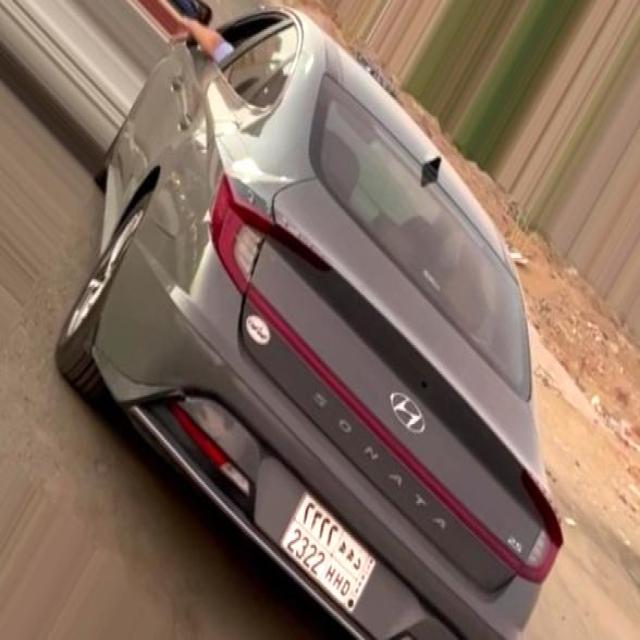Car-plate: (276, 481, 382, 630)
